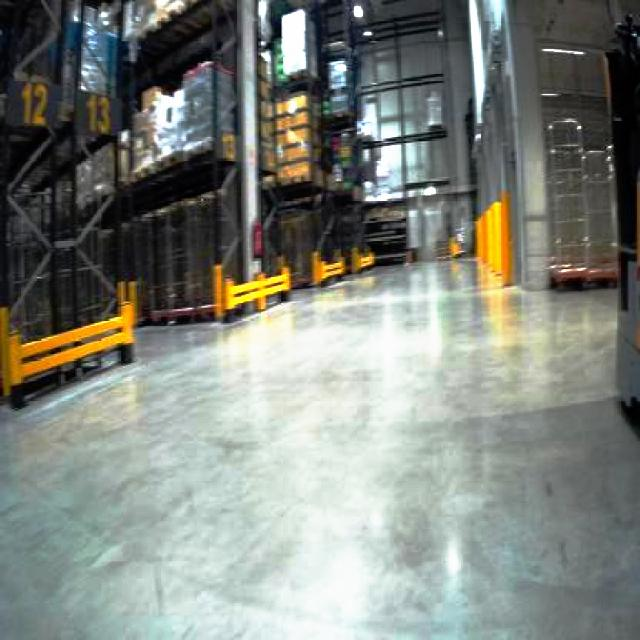ground: (0, 252, 638, 638)
pallet: (0, 240, 377, 409), (0, 277, 140, 409), (603, 14, 638, 460), (543, 115, 618, 289), (211, 254, 291, 320), (357, 198, 411, 265), (549, 263, 618, 289)
